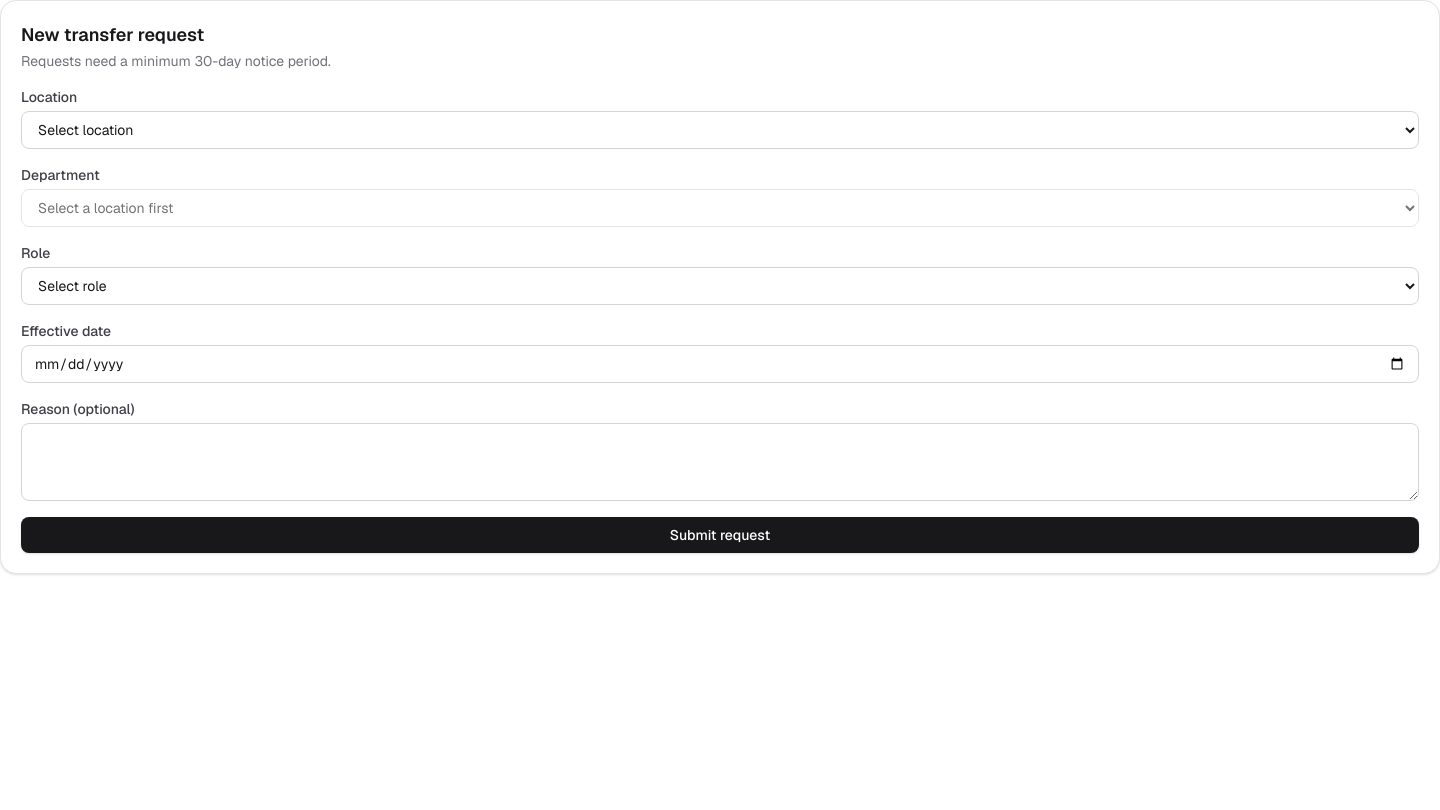
Test: NewTransferRequestScreen › shows inline validation errors for every required field when submitted empty
The width and height of the screenshot is (1440, 810).
Click the button "Submit request" at (720, 535), box left=21, top=517, right=1419, bottom=553
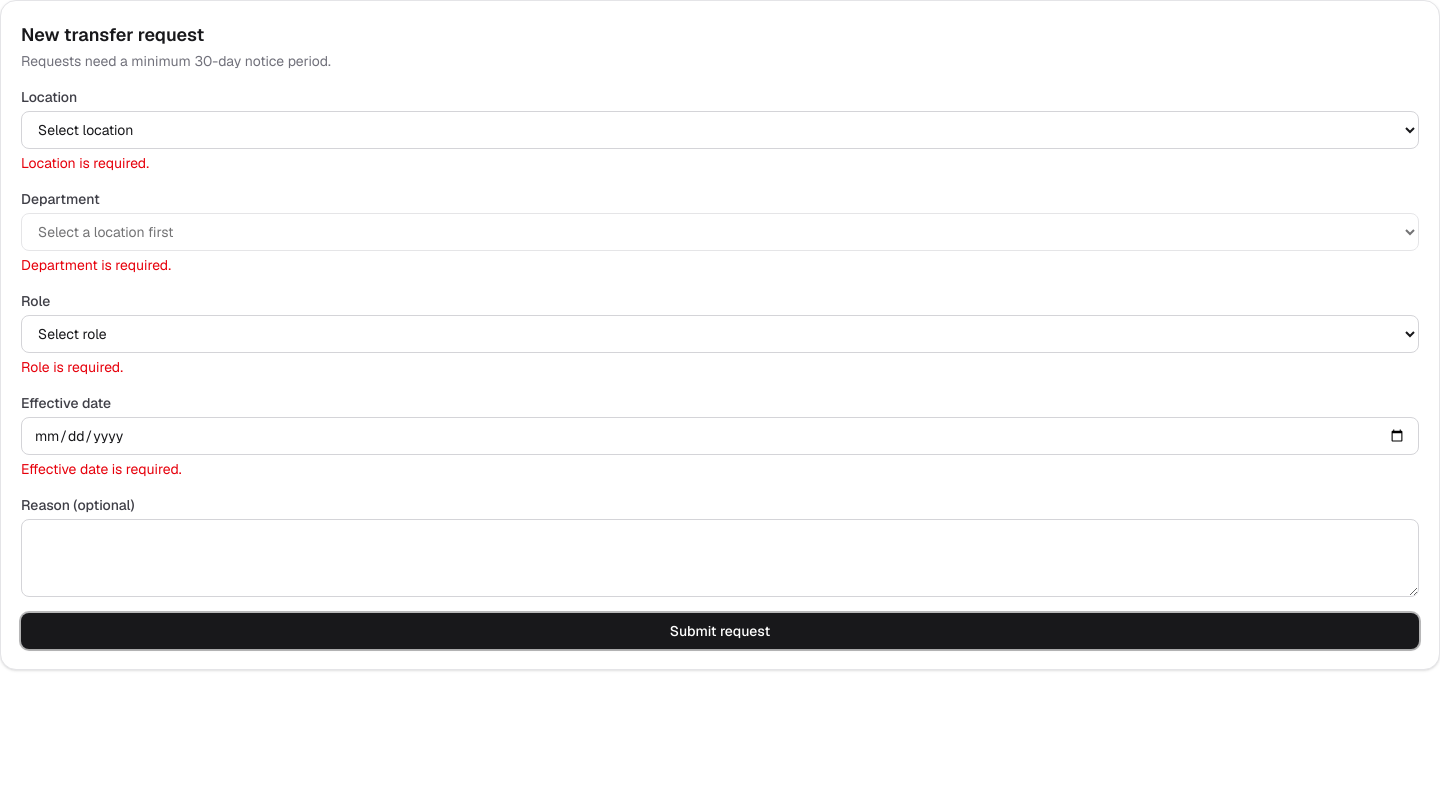
Expected: the text "Location is required." is shown, left=21, top=154, right=149, bottom=172
Expected: the text "Department is required." is shown, left=21, top=256, right=171, bottom=274
Expected: the text "Role is required." is shown, left=21, top=358, right=123, bottom=376
